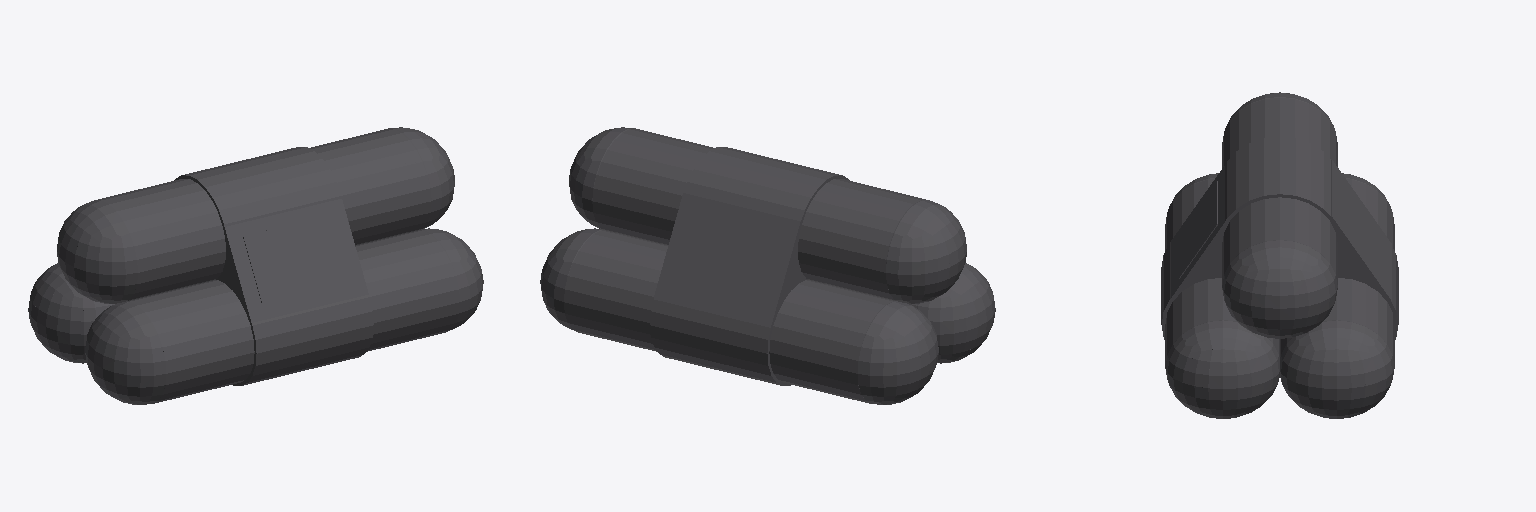
The model's file is Tnt.obj.
3 views of the same model, side by side, from view 1: azimuth 30°, elevation 25°; view 2: azimuth 150°, elevation 25°; view 3: azimuth 270°, elevation 25° (orthographic).
Visible parts, largest first — view 1: Meshesbomb1; view 2: Meshesbomb1; view 3: Meshesbomb1.
Part boxes in pixels (x1,y1,x2,y2): Meshesbomb1: (28, 127, 483, 404); Meshesbomb1: (540, 127, 995, 404); Meshesbomb1: (1161, 92, 1398, 418).
Size of the model in its own units: 12.3 by 5.58 by 6.61.